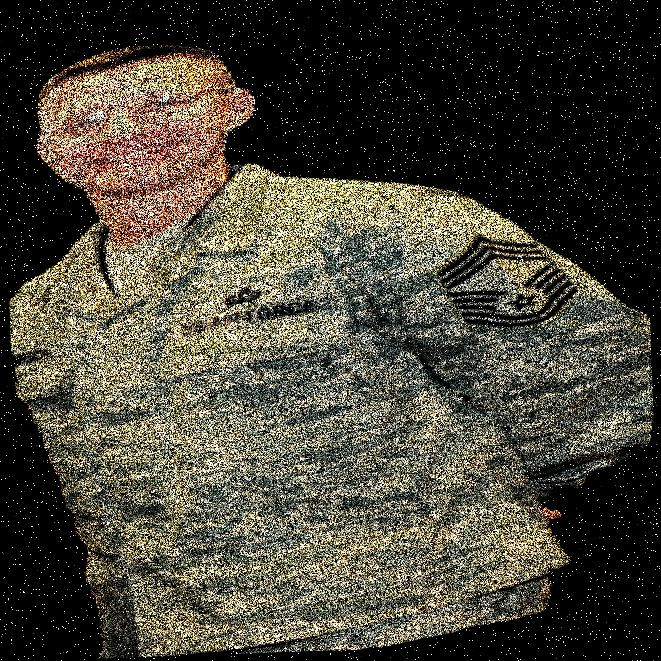Pessoa: (66, 0, 377, 660)
